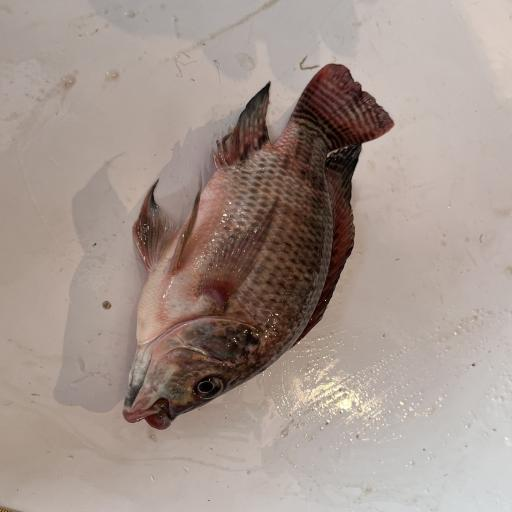Tilapia: (121, 63, 395, 431)
